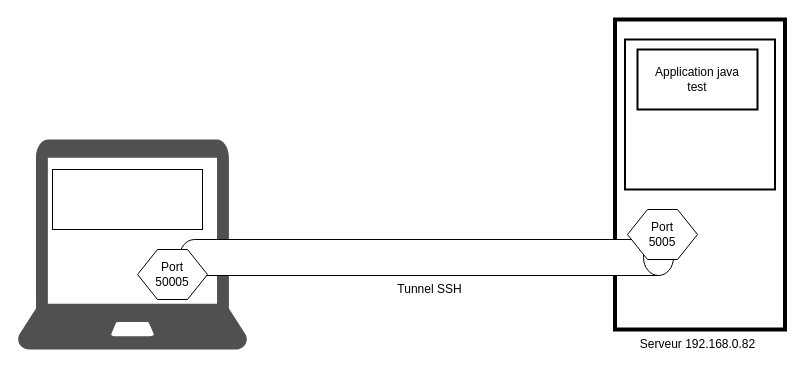
This 804x371 diagram has some shape labels left out. The box of each missing label's shape, as (x1, y1, x2, y2) in pixels:
Débogueur de l'IDE: (52, 168, 202, 230)
JVM distante: (624, 38, 776, 190)
